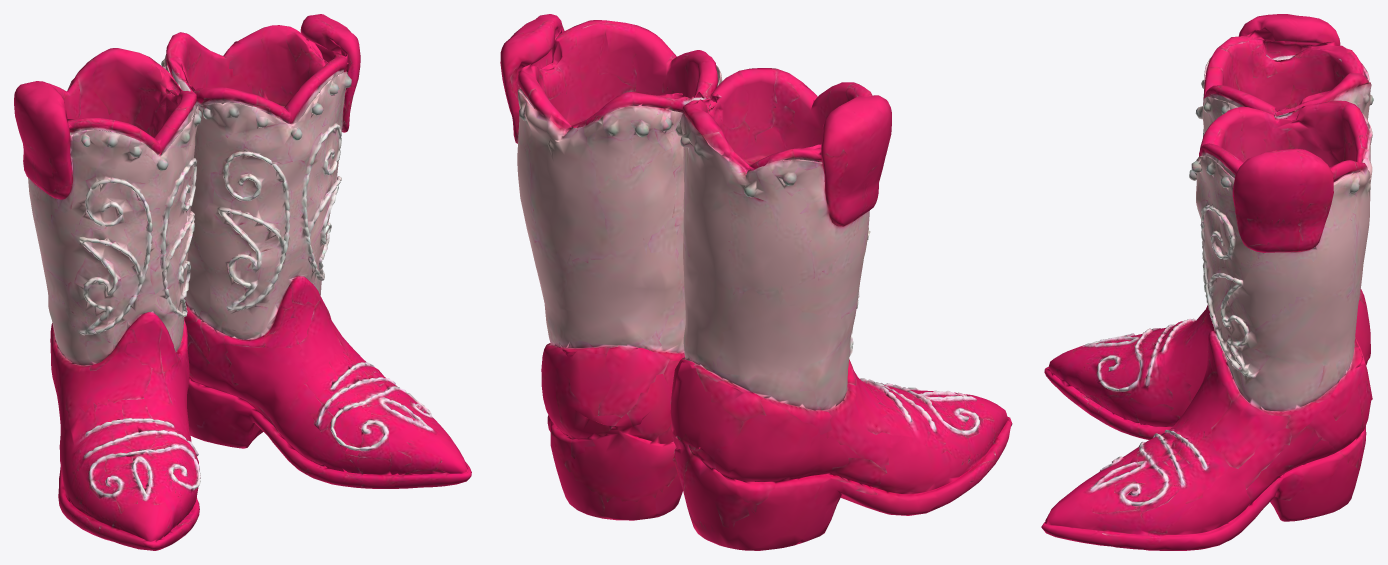
3 views of the same model, side by side, from view 1: azimuth 30°, elevation 25°; view 2: azimuth 150°, elevation 25°; view 3: azimuth 270°, elevation 25° (orthographic). The views are drawn at different scales.
Size of the model in its own units: 1.83 by 1.9 by 1.48.
1 material, 1 textured.
